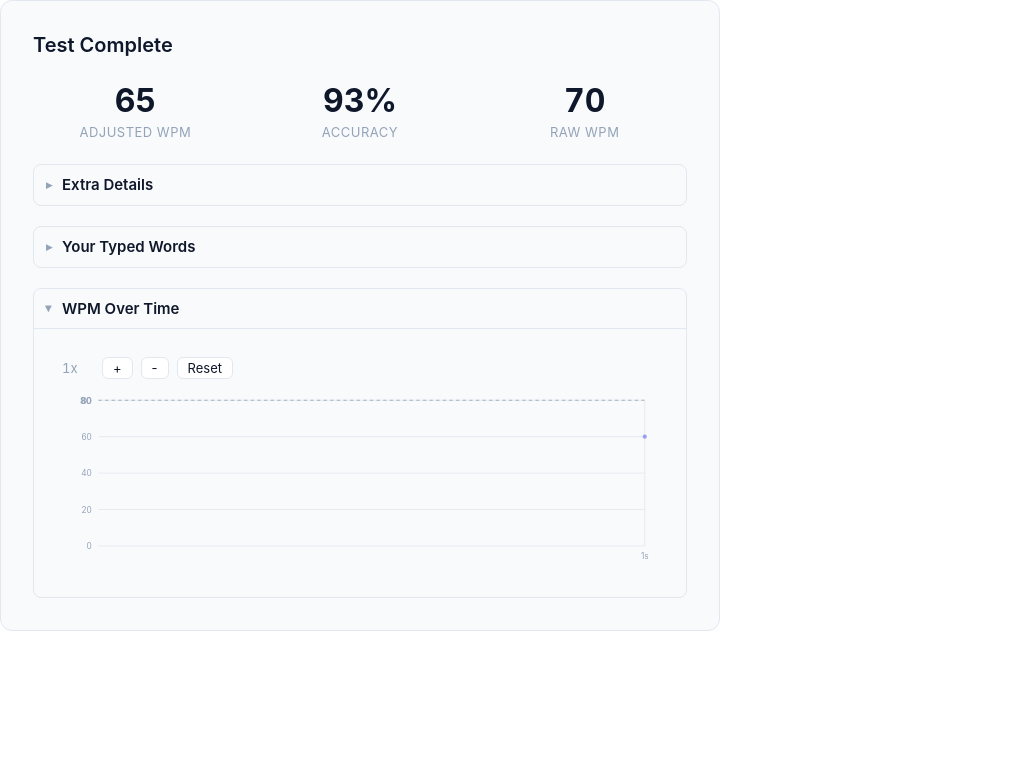
ResultsDisplay › renders per-word WPM labels matching the word states
The width and height of the screenshot is (1024, 768).
Click the button "▸ Your Typed Words": (129, 246) [34, 227, 686, 267]
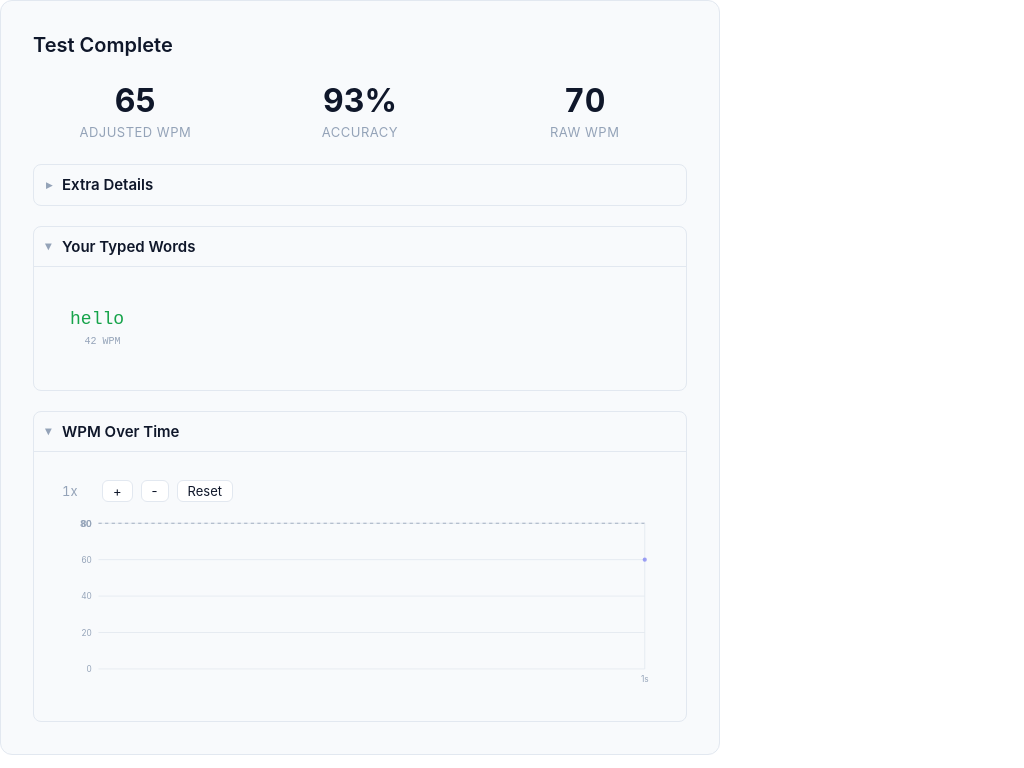
expect the text "42 WPM" is shown: met, box [84, 336, 120, 347]
